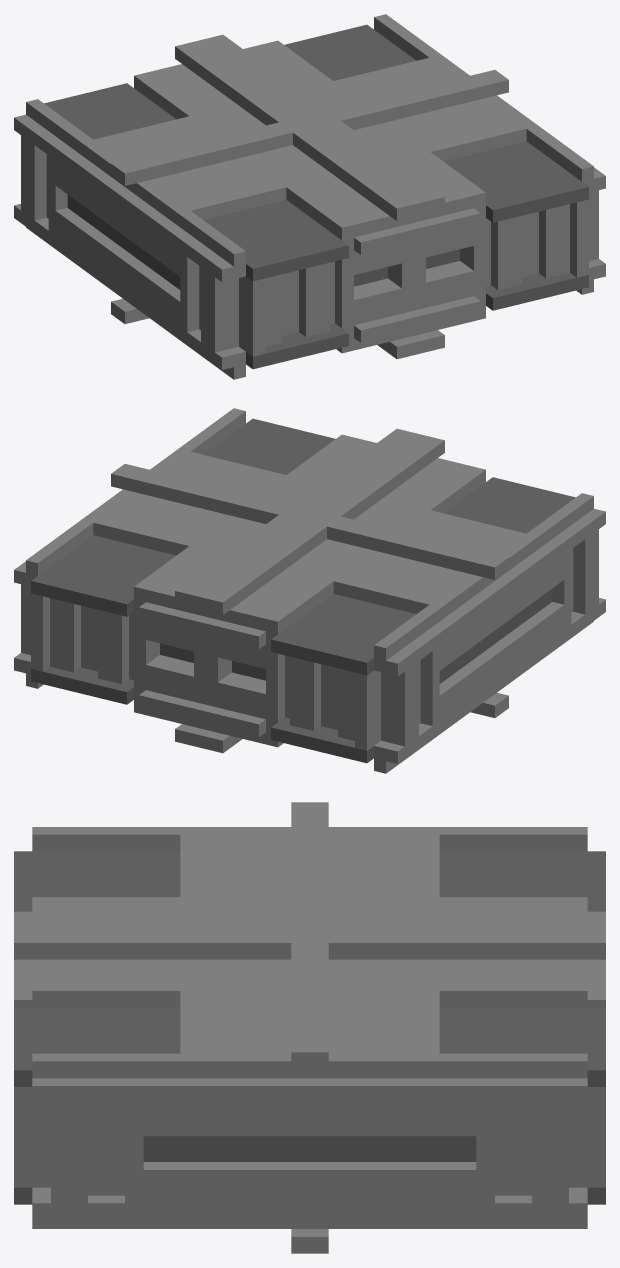
File: alien_saucer1b.obj
3 renders of one model, top to bottom at view 1: azimuth 30°, elevation 25°; view 2: azimuth 150°, elevation 25°; view 3: azimuth 270°, elevation 25°, orthographic. The views are drawn at different scales.
Bounding box in the file's own units: 32 × 12 × 32.
